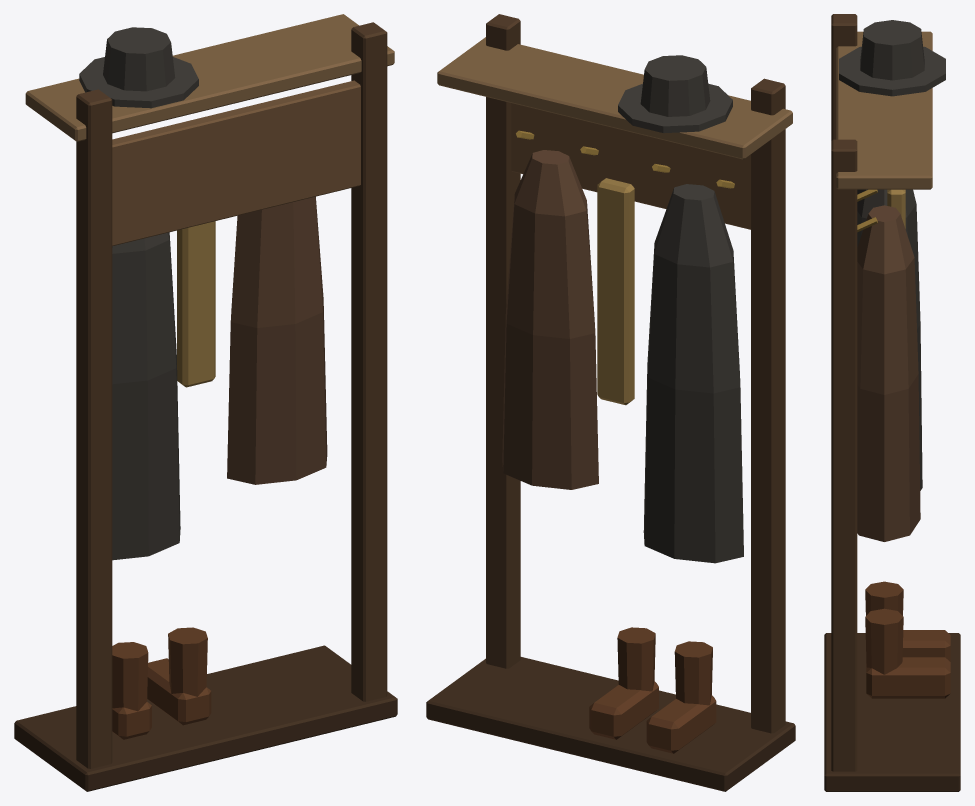
File: prop_coat_rack.glb
The picture shows the model from 3 angles, left to right: view 1: azimuth 30°, elevation 25°; view 2: azimuth 150°, elevation 25°; view 3: azimuth 270°, elevation 25°; orthographic projection. The views are drawn at different scales.
Parts seen in each view (by area): view 1: prop_coat_rack; view 2: prop_coat_rack; view 3: prop_coat_rack.
Part boxes in pixels (<box>): prop_coat_rack: <box>14,14,397,791</box>; prop_coat_rack: <box>426,14,795,791</box>; prop_coat_rack: <box>824,14,960,791</box>.
Size of the model in its own units: 0.86 by 1.81 by 0.34.
